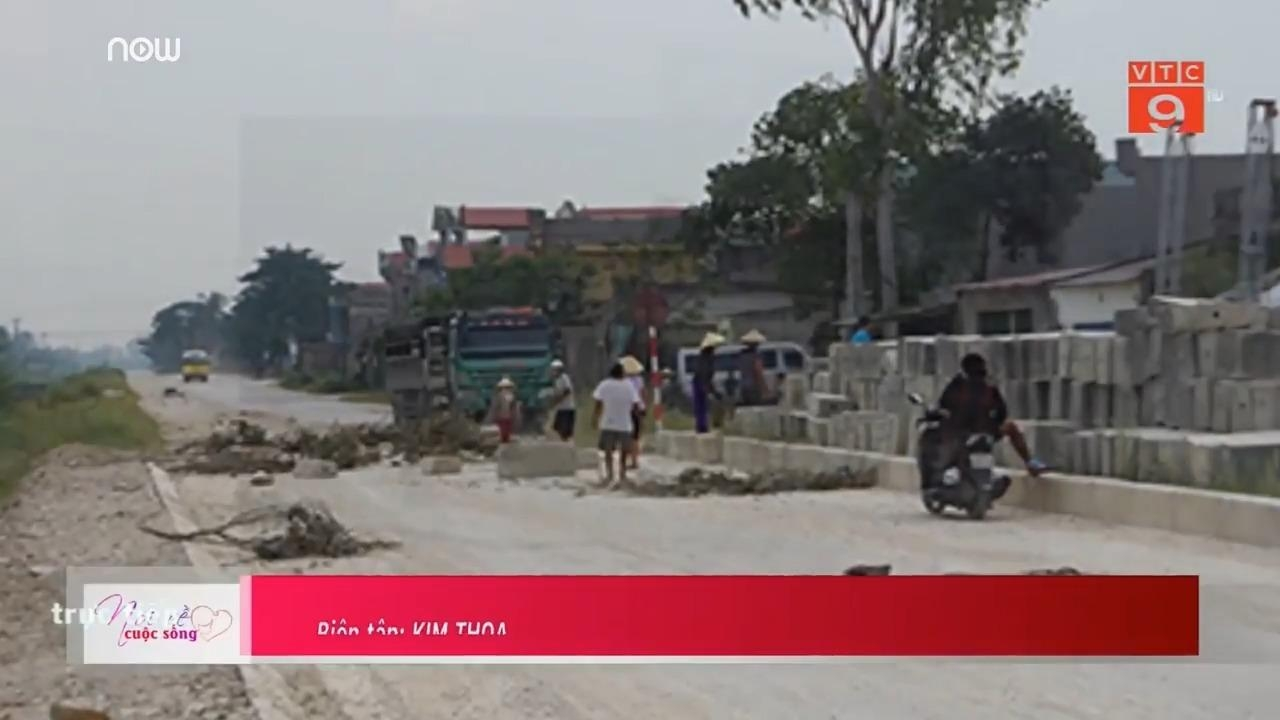bus: (180, 347, 210, 382)
car: (677, 340, 809, 406)
motorcycle: (905, 390, 1012, 520)
truck: (381, 304, 555, 430)
